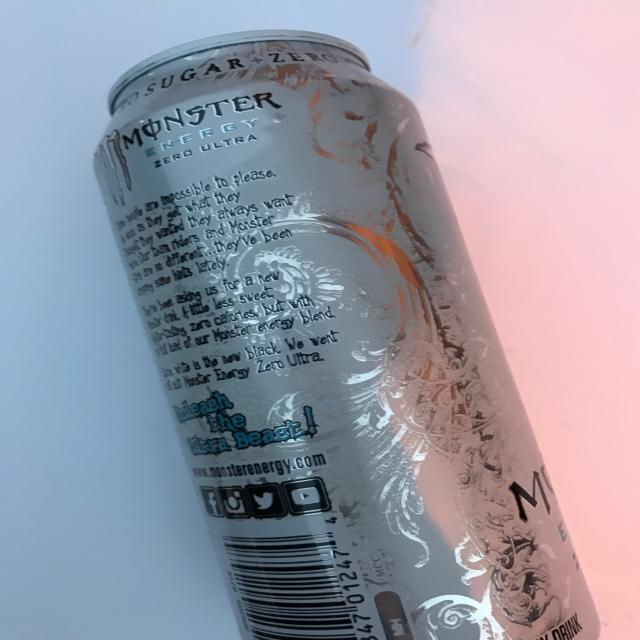metal: (92, 28, 602, 640)
